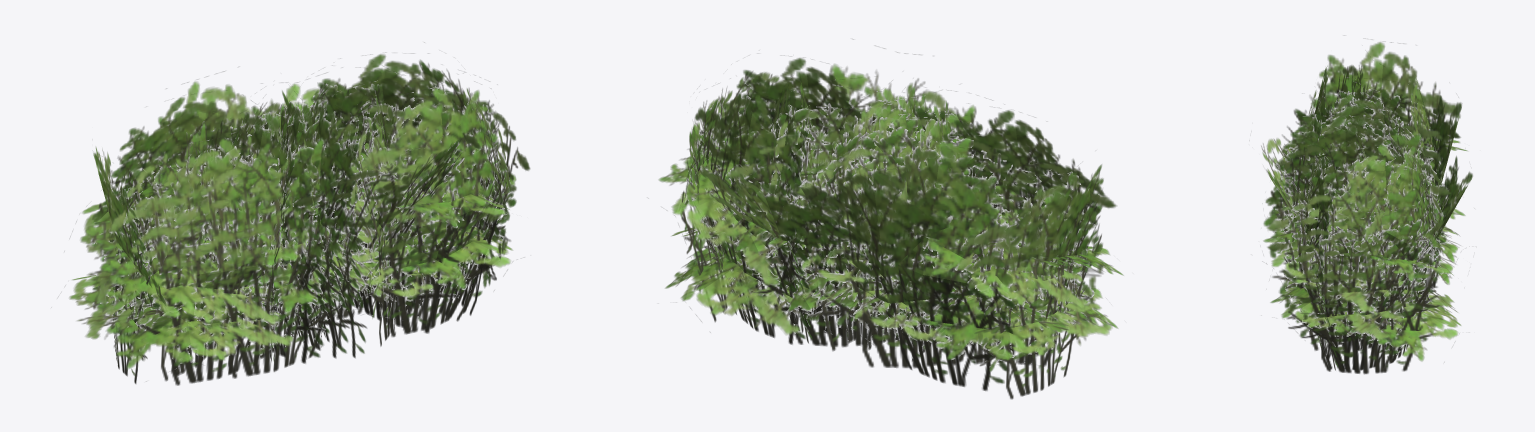
The model's file is hedge0_lod1.glb.
3 renders of one model, left to right at view 1: azimuth 30°, elevation 25°; view 2: azimuth 150°, elevation 25°; view 3: azimuth 270°, elevation 25°, orthographic. The views are drawn at different scales.
Visible parts, largest first — view 1: Hedge-01; view 2: Hedge-01; view 3: Hedge-01.
Part boxes in pixels (x1=…): Hedge-01: x1=58, y1=53, x2=530, y2=385; Hedge-01: x1=658, y1=39, x2=1123, y2=399; Hedge-01: x1=1261, y1=42, x2=1472, y2=374.
Bounding box in the file's own units: 3.17 × 1.41 × 1.84.
Materials: 2 (2 with a texture image).
